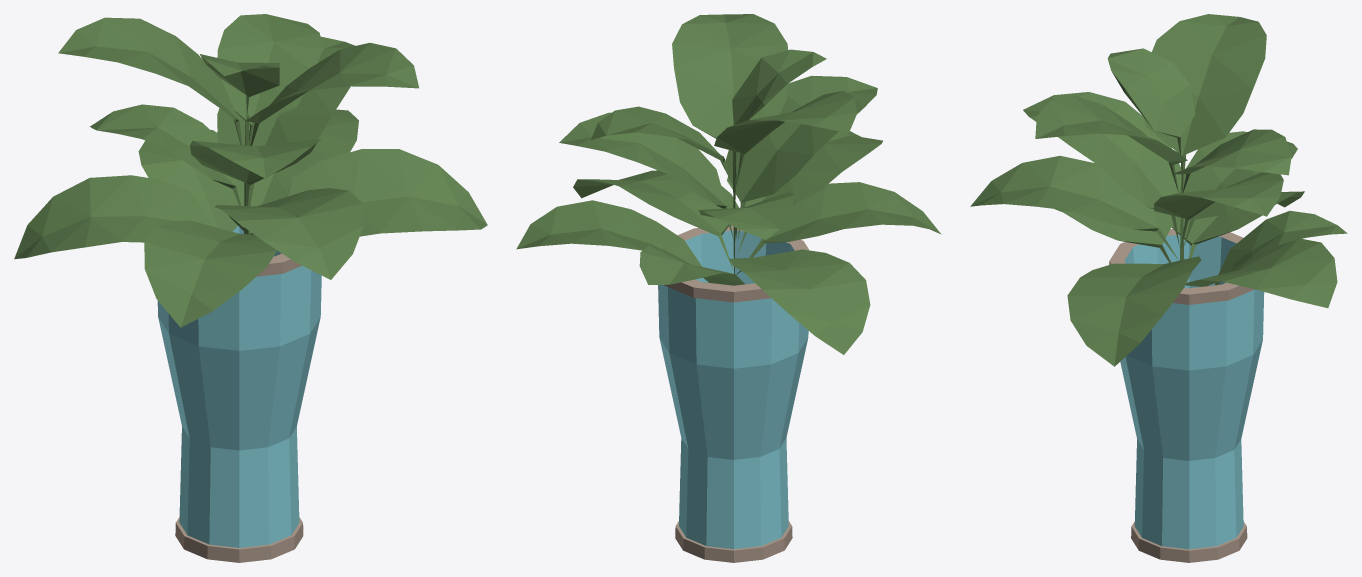
The model's file is Plant1.fbx.
3 renders of one model, left to right at view 1: azimuth 30°, elevation 25°; view 2: azimuth 150°, elevation 25°; view 3: azimuth 270°, elevation 25°, orthographic. The views are drawn at different scales.
Parts seen in each view (by area): view 1: Flower_07; view 2: Flower_07; view 3: Flower_07.
Boxes of the visible parts, bbox=[...] form: Flower_07: bbox=[14, 14, 487, 562]; Flower_07: bbox=[516, 14, 941, 562]; Flower_07: bbox=[970, 14, 1347, 562].
Bounding box in the file's own units: 106 × 134 × 99.1.
